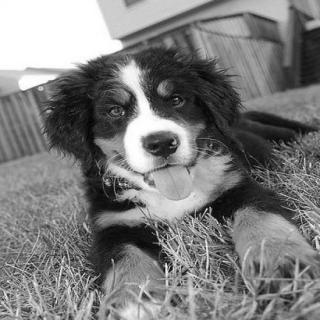dog: (52, 54, 234, 203)
nose: (139, 129, 186, 158)
